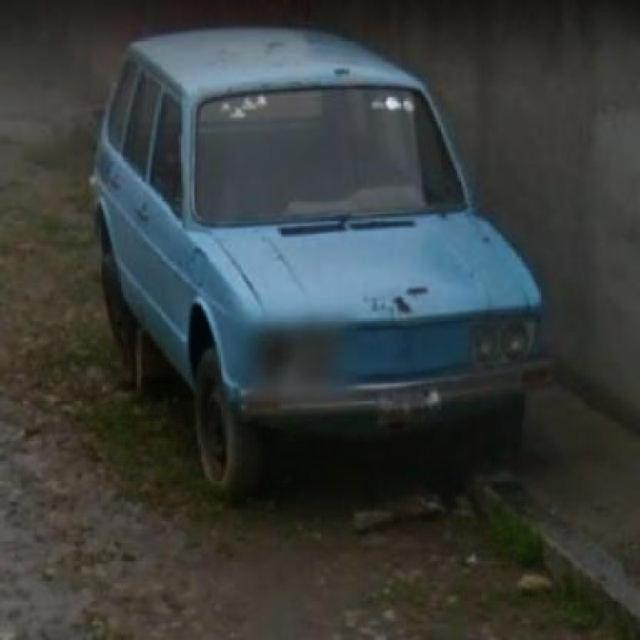car: (92, 32, 548, 483)
